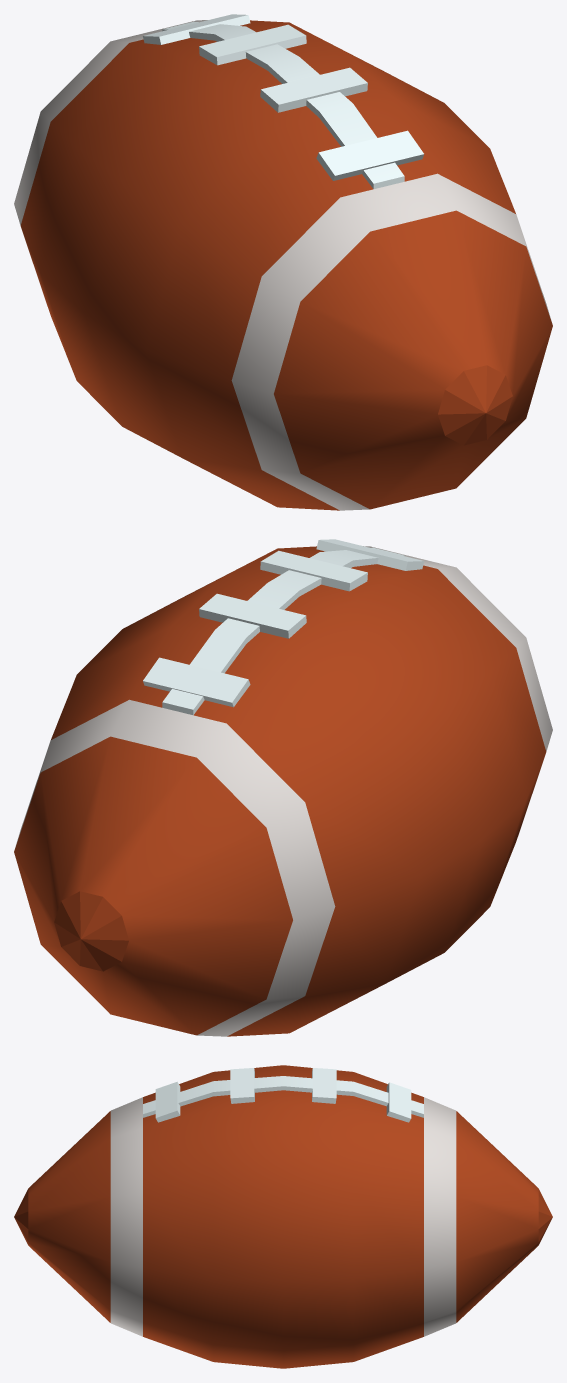
File: 56_prop_rugby ball.FBX
The picture shows the model from 3 angles, top to bottom: view 1: azimuth 30°, elevation 25°; view 2: azimuth 150°, elevation 25°; view 3: azimuth 270°, elevation 25°; orthographic projection. The views are drawn at different scales.
Parts seen in each view (by area): view 1: prop_rugby ball; view 2: prop_rugby ball; view 3: prop_rugby ball.
Boxes of the visible parts, <box> form: prop_rugby ball: <box>14,14,552,510</box>; prop_rugby ball: <box>14,539,552,1036</box>; prop_rugby ball: <box>14,1065,552,1368</box>.
Bounding box in the file's own units: 17.59 × 16.99 × 30.99.
